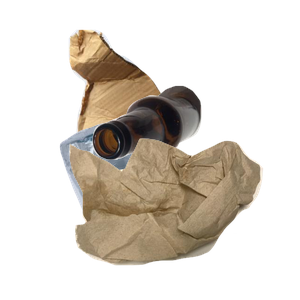cardboard: (66, 27, 242, 197)
glass: (90, 83, 300, 235)
plastic: (57, 120, 284, 300)
trash: (67, 136, 300, 300)
